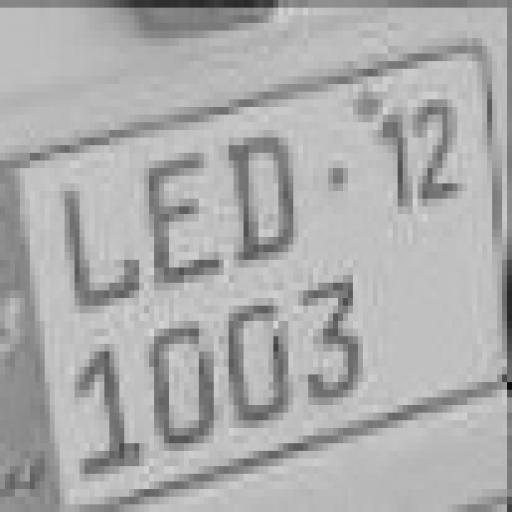0: (223, 294, 289, 428), (148, 321, 216, 446)
1: (69, 334, 139, 475)
3: (296, 280, 369, 404)
D: (226, 135, 304, 261)
E: (142, 149, 223, 291)
L: (58, 182, 141, 308)
